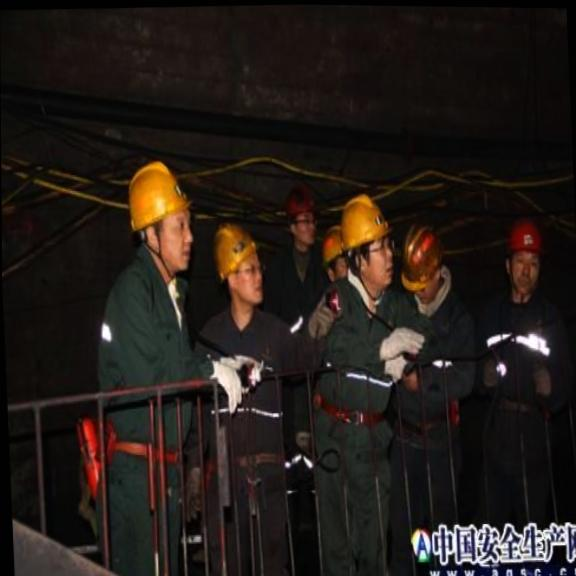no_safety_vest: (82, 247, 196, 471), (191, 305, 301, 481), (311, 271, 408, 460), (474, 290, 576, 467), (384, 282, 482, 440), (258, 241, 325, 374)
